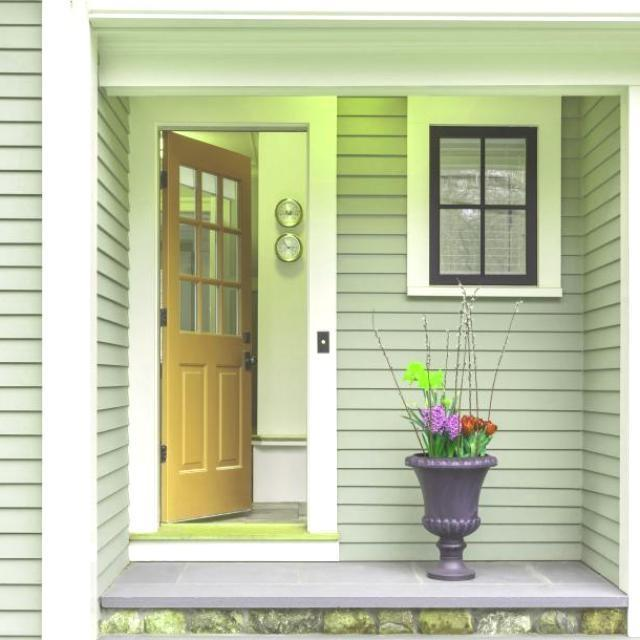door: (159, 130, 254, 522)
